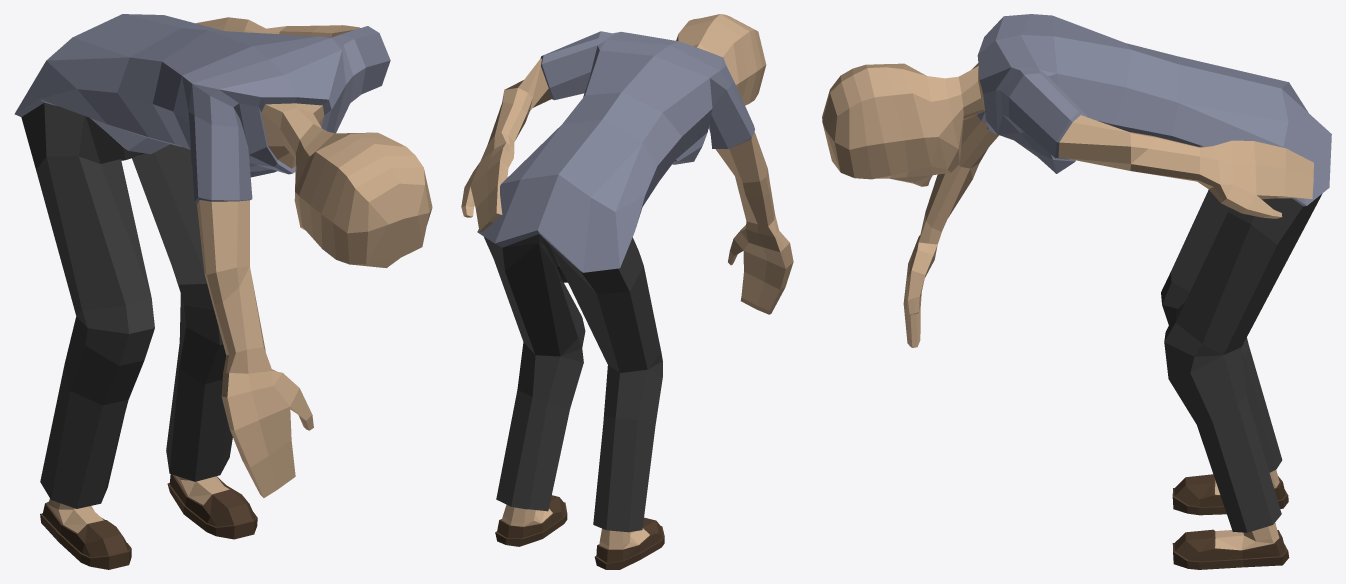
File: crowd_eclair_female_pickingup.190ffe65.glb
3 renders of one model, left to right at view 1: azimuth 30°, elevation 25°; view 2: azimuth 150°, elevation 25°; view 3: azimuth 270°, elevation 25°, orthographic. The views are drawn at different scales.
Visible parts, largest first — view 1: Pants, Shirt, Skin, Shoes; view 2: Shirt, Pants, Skin, Shoes; view 3: Skin, Shirt, Pants, Shoes.
Boxes of the visible parts, x1,y1,x2,y2 form: Pants: [21, 102, 232, 508]; Shirt: [14, 14, 390, 204]; Skin: [48, 17, 432, 533]; Shoes: [40, 474, 257, 569]; Shirt: [477, 31, 754, 272]; Pants: [484, 234, 662, 532]; Skin: [461, 14, 793, 549]; Shoes: [495, 495, 664, 569]; Skin: [822, 63, 1313, 550]; Shirt: [977, 14, 1331, 206]; Pants: [1161, 190, 1322, 532]; Shoes: [1172, 474, 1289, 569].
Size of the model in its own units: 1.08 by 2.26 by 2.09.
